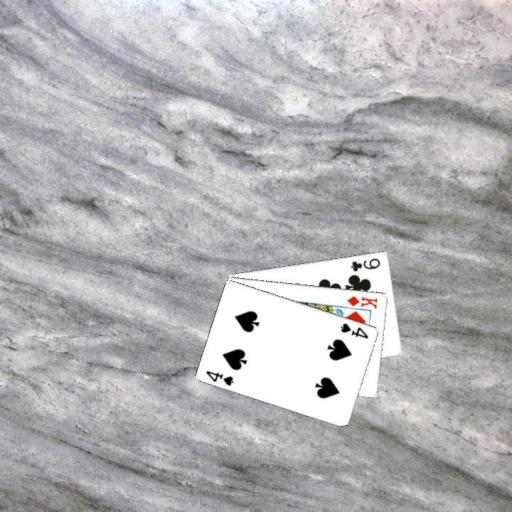4S: (338, 320, 370, 340), (204, 367, 236, 387)
9C: (348, 255, 382, 273)
KD: (344, 292, 379, 310)
